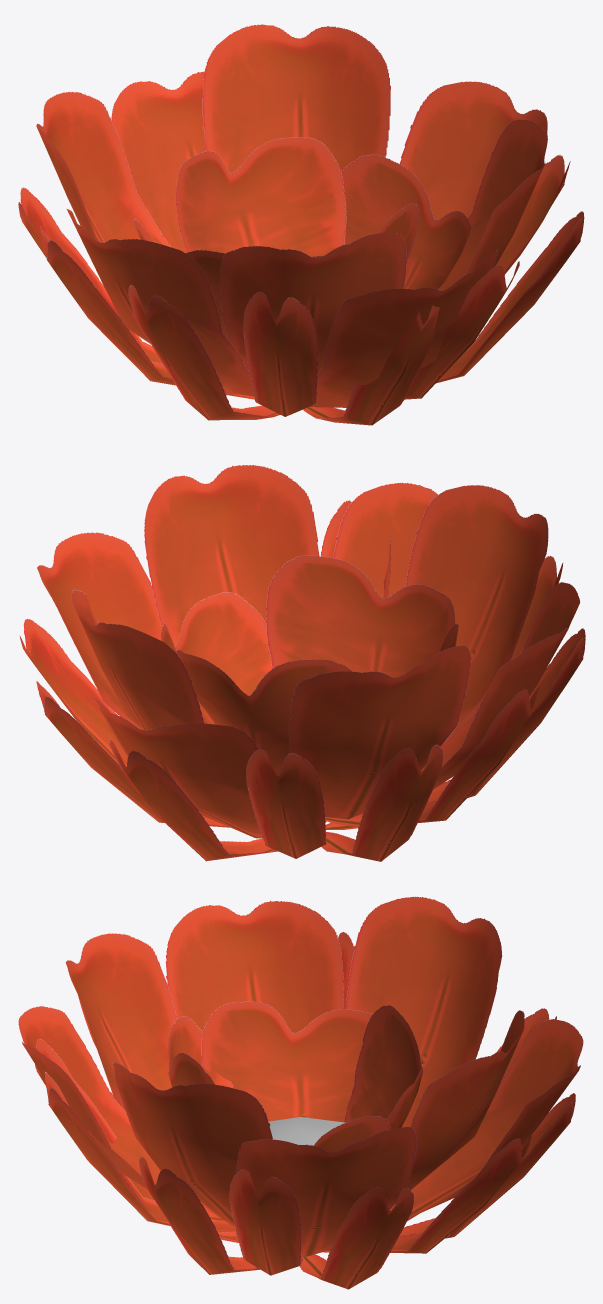
Rendered from flower.fbx.
3 views of the same model, one above another, from view 1: azimuth 30°, elevation 25°; view 2: azimuth 150°, elevation 25°; view 3: azimuth 270°, elevation 25° (orthographic). The views are drawn at different scales.
Visible parts, largest first — view 1: flower1; view 2: flower1; view 3: flower1.
Part boxes in pixels (x1,y1,x2,y2): flower1: (18,24,584,425); flower1: (19,465,585,861); flower1: (18,896,583,1289).
Bounding box in the file's own units: 4.43 × 2.39 × 4.64.
Materials: 2 (1 with a texture image).
